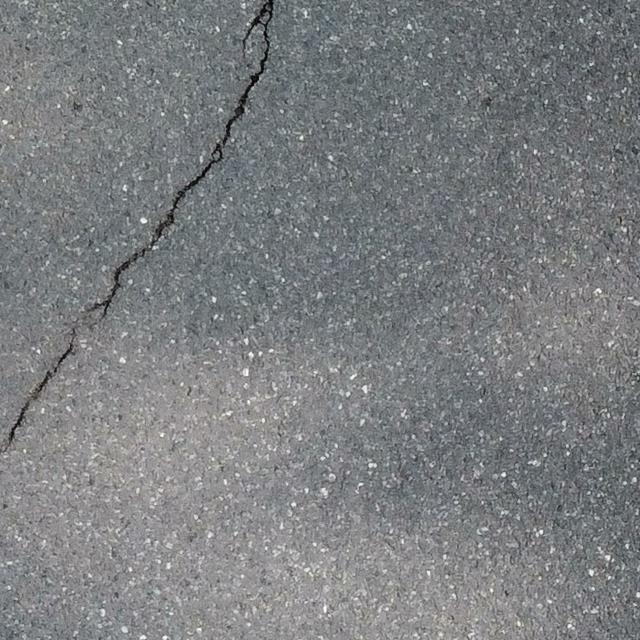LongitudinalCrack: (2, 1, 274, 455)
